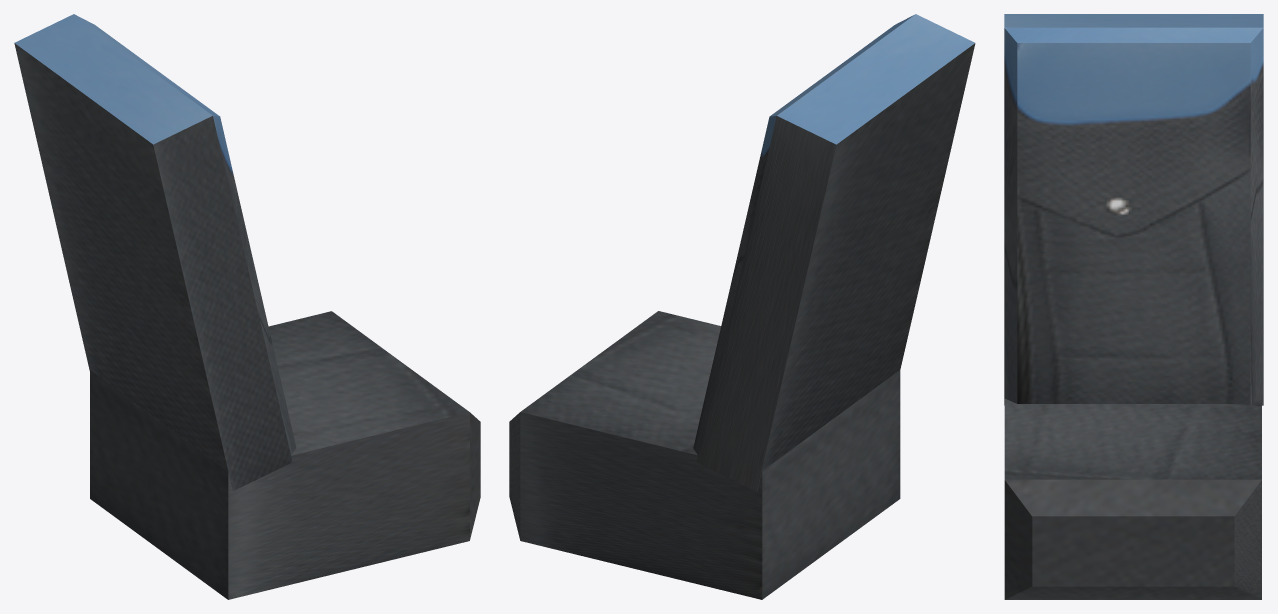
The model's file is Chair.fbx.
3 renders of one model, left to right at view 1: azimuth 30°, elevation 25°; view 2: azimuth 150°, elevation 25°; view 3: azimuth 270°, elevation 25°, orthographic. The views are drawn at different scales.
Parts seen in each view (by area): view 1: Chair; view 2: Chair; view 3: Chair.
Boxes of the visible parts, x1,y1,x2,y2 form: Chair: (14, 14, 480, 599); Chair: (509, 14, 975, 599); Chair: (1004, 14, 1263, 599).
Bounding box in the file's own units: 556 × 758 × 391.
